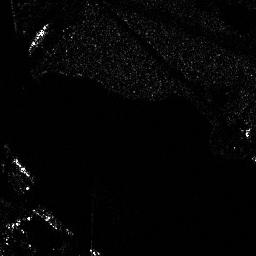ship: (27, 21, 49, 50)
